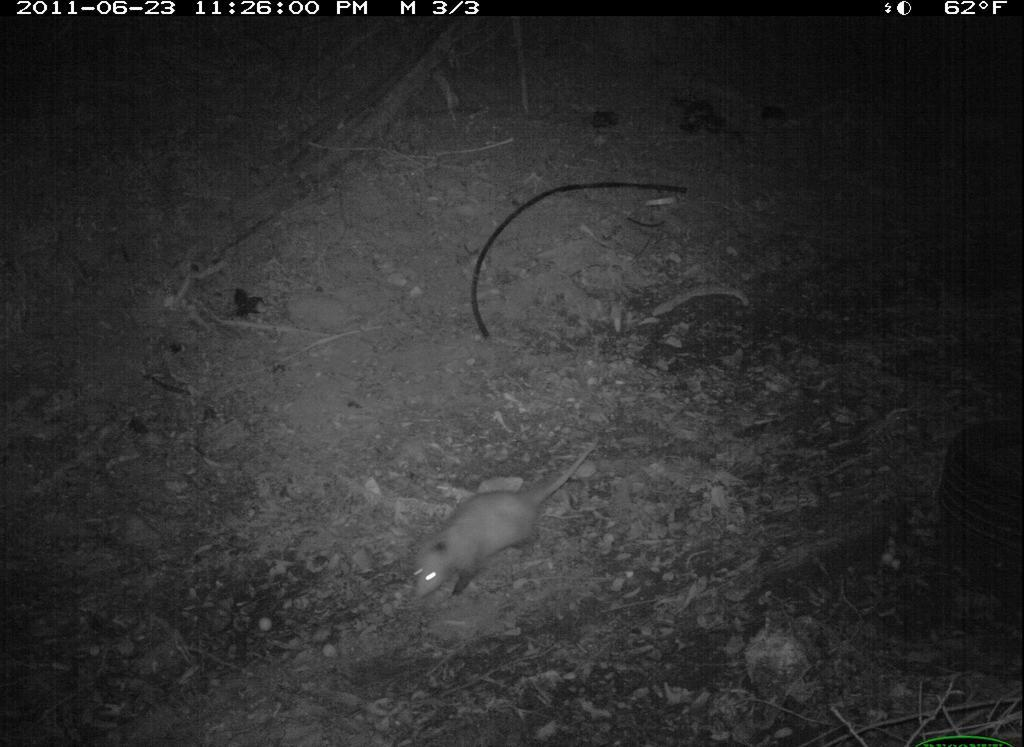opossum: (408, 428, 607, 606)
